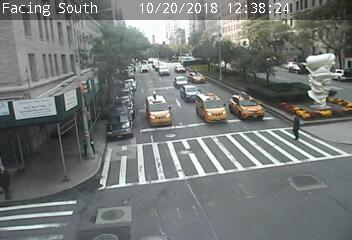car: (229, 95, 264, 120), (197, 93, 227, 121), (147, 96, 172, 125), (181, 85, 200, 102), (190, 72, 207, 84), (174, 76, 187, 86), (174, 64, 186, 72), (160, 67, 171, 75), (141, 66, 150, 74)
